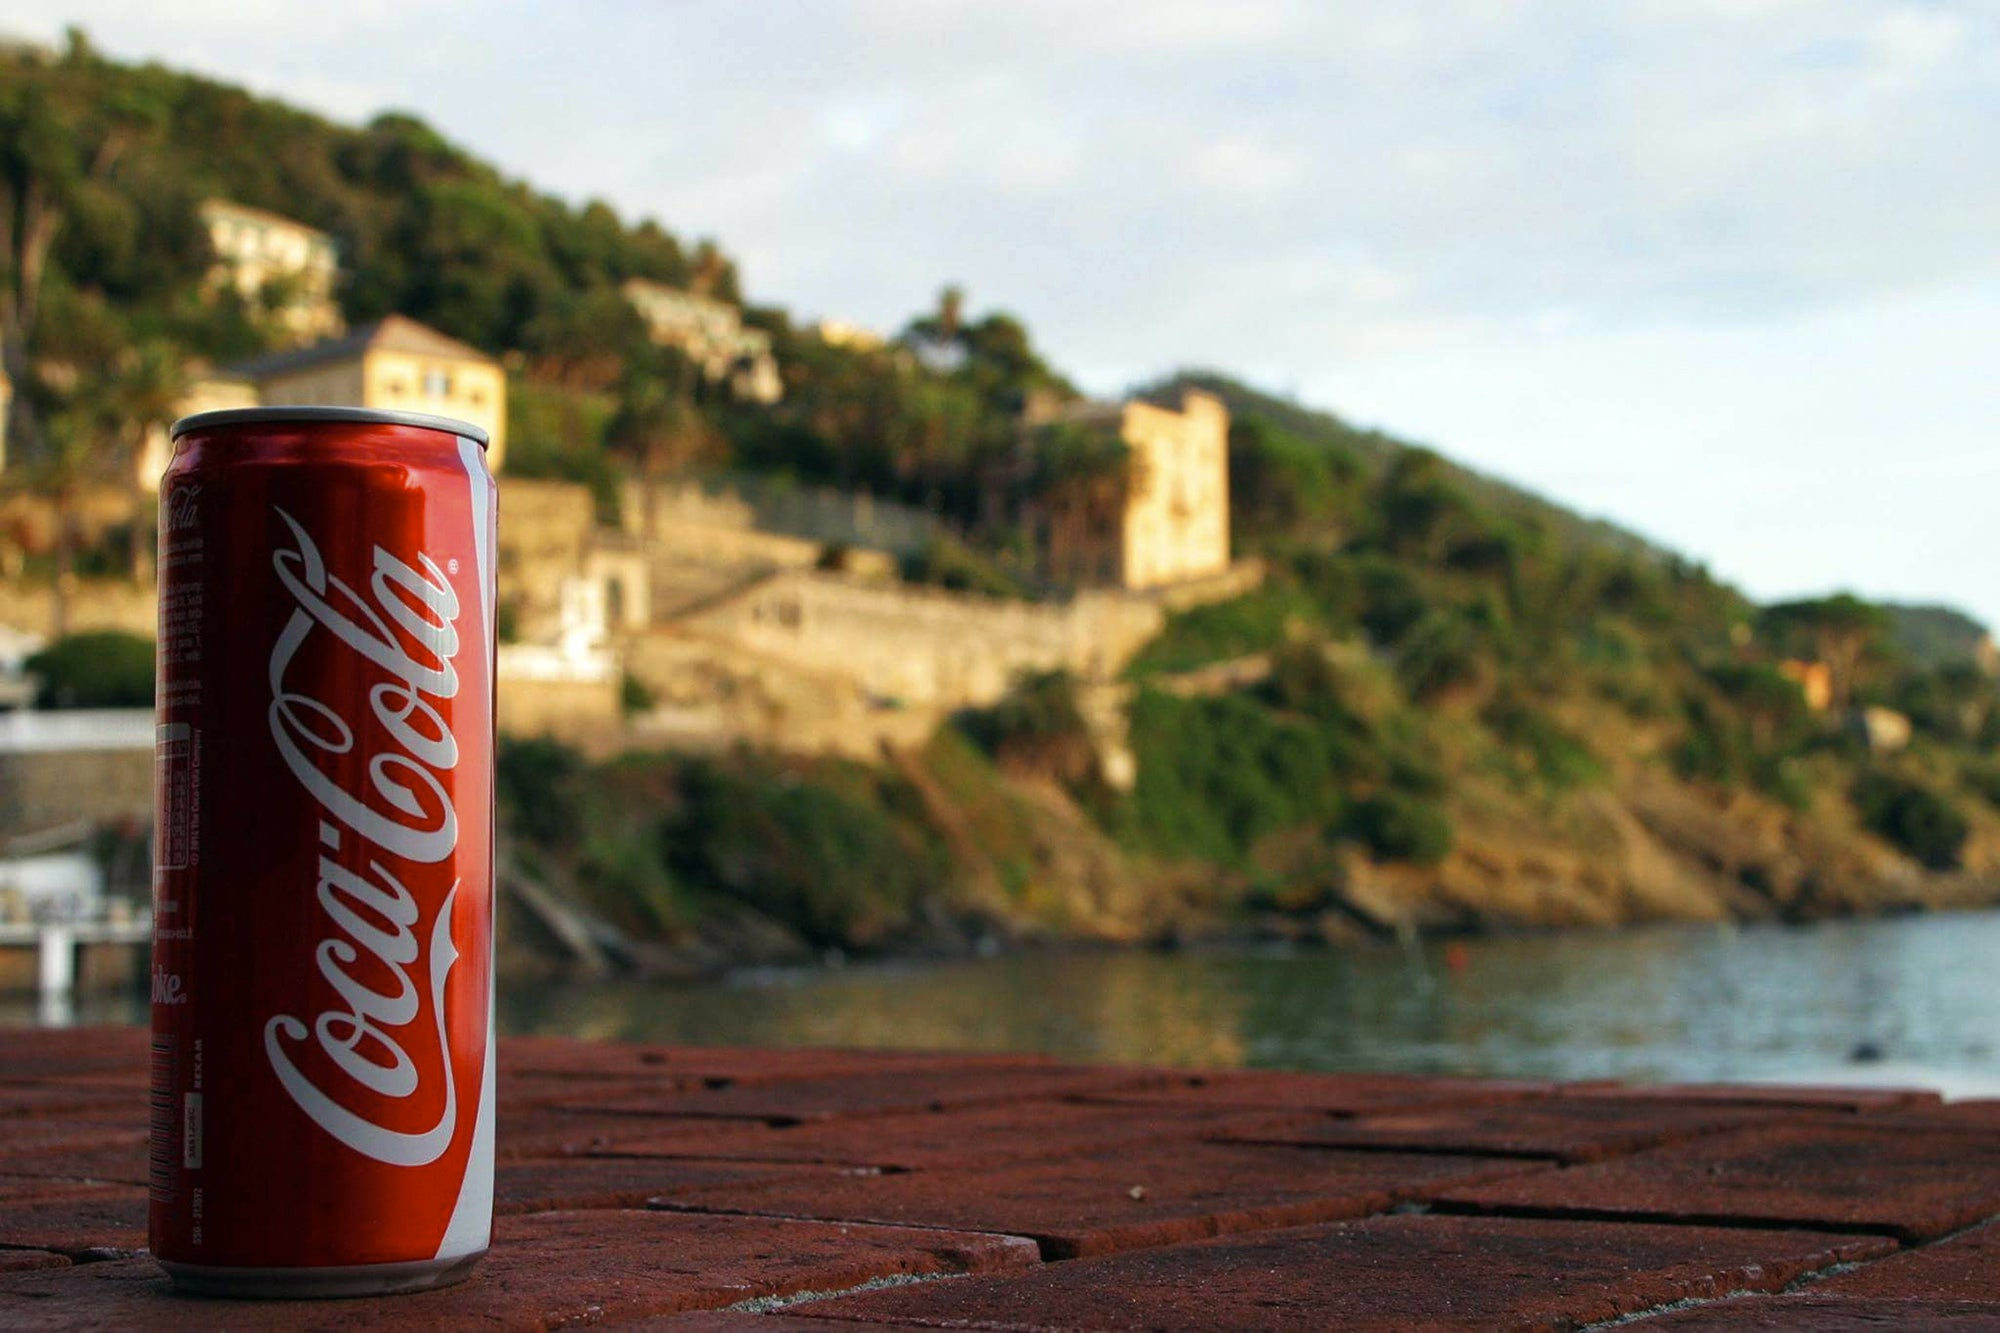coke: (162, 411, 494, 1294)
